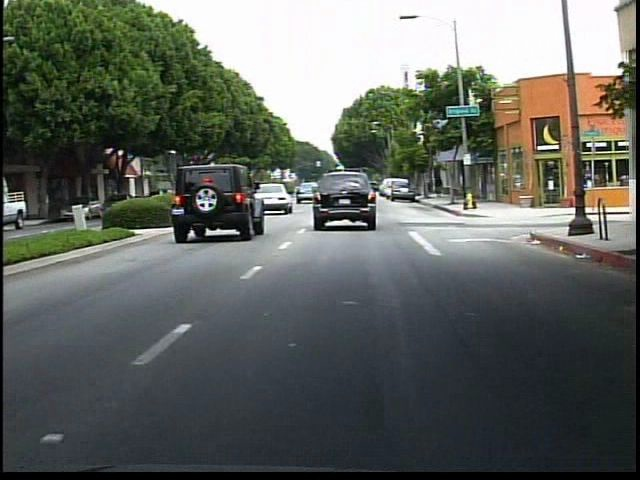person: (429, 166, 449, 202)
